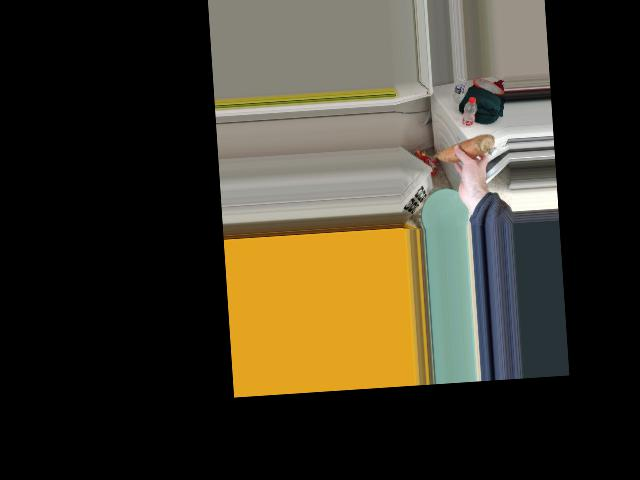sweet_potato: (430, 137, 495, 160)
